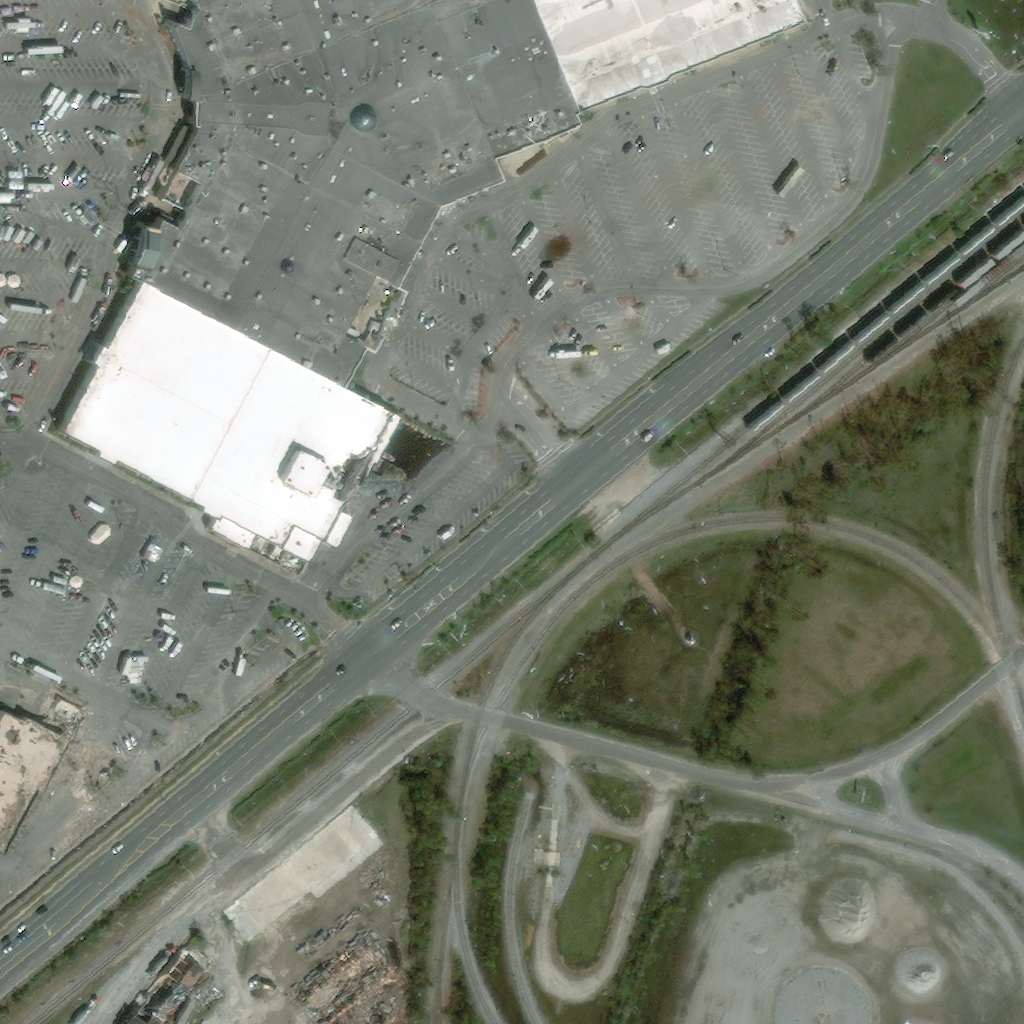destroyed: (220, 805, 385, 949), (289, 930, 379, 1012), (308, 954, 401, 1023), (120, 950, 206, 1023)
major_damage: (0, 692, 80, 859)
no_damage: (120, 0, 575, 385), (51, 280, 395, 582), (524, 0, 797, 114)
